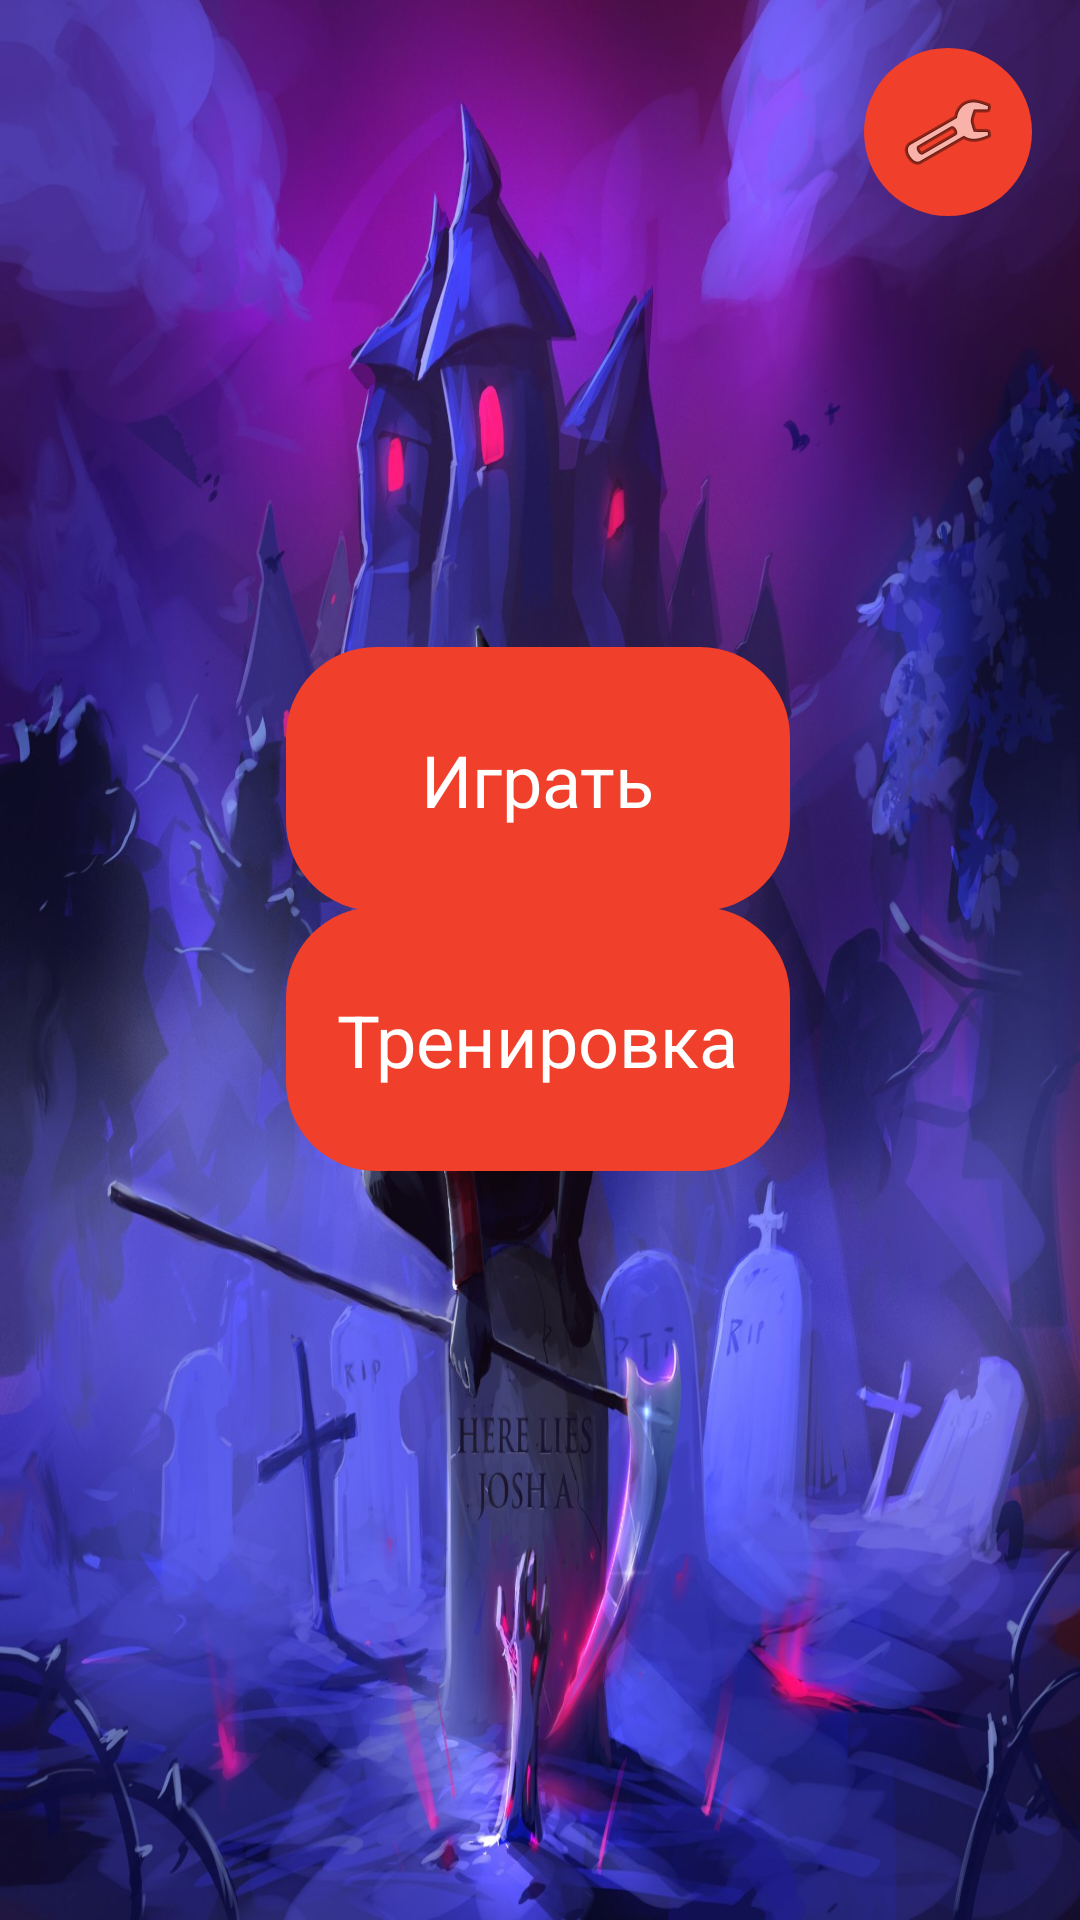

Icon click points for this 1080 x 1920 phone screenshot, format point (x, y):
manage: point (948, 132)
